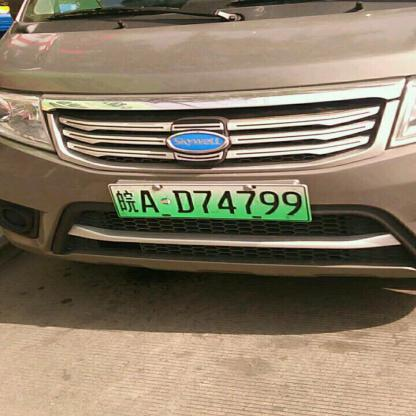lp: (108, 184, 310, 219)
